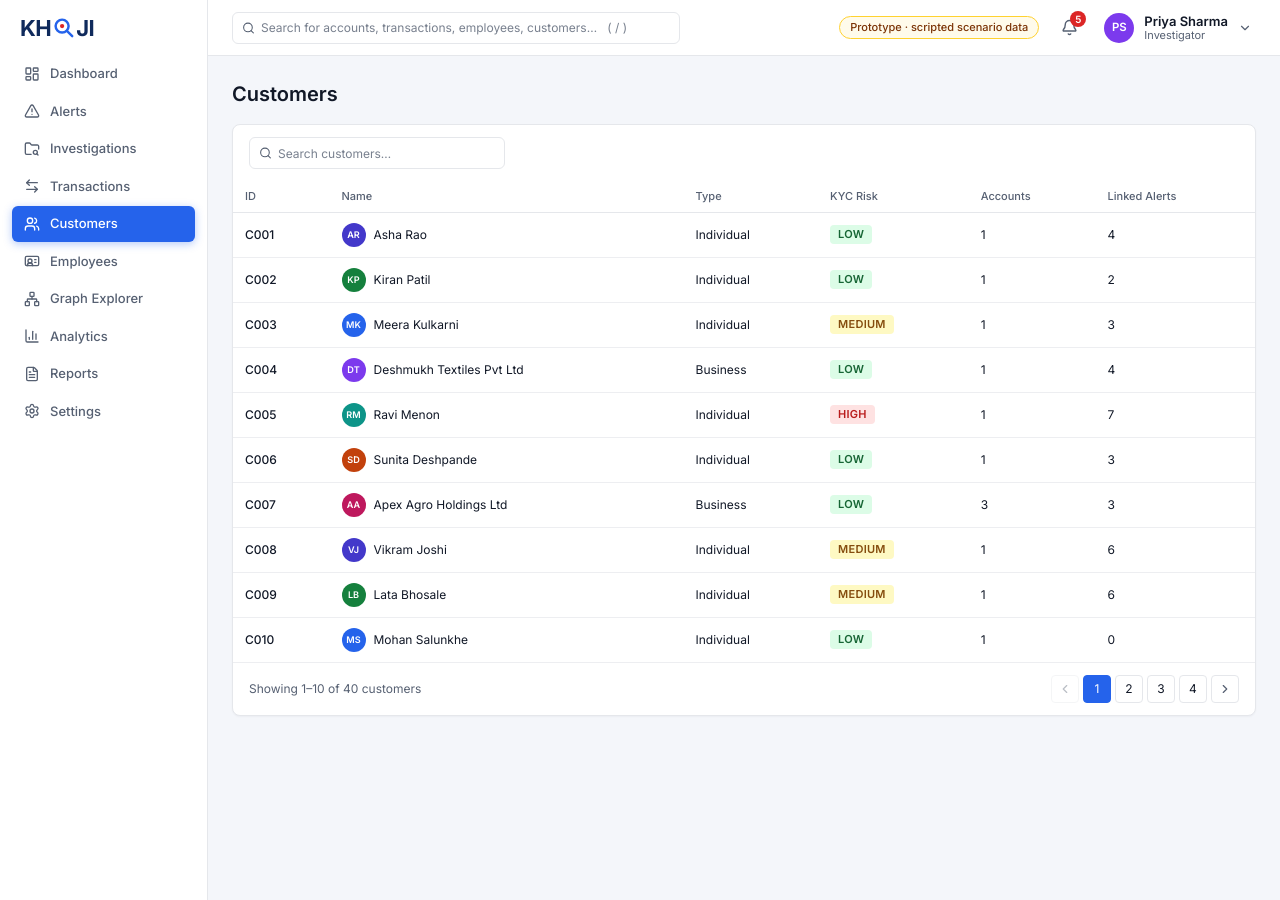
Test: Customers list › shows linked alert counts and searches by name
Type "Ravi" into the search field labelled "Search customers" at coordinates (377, 153), box [249,137,505,169]
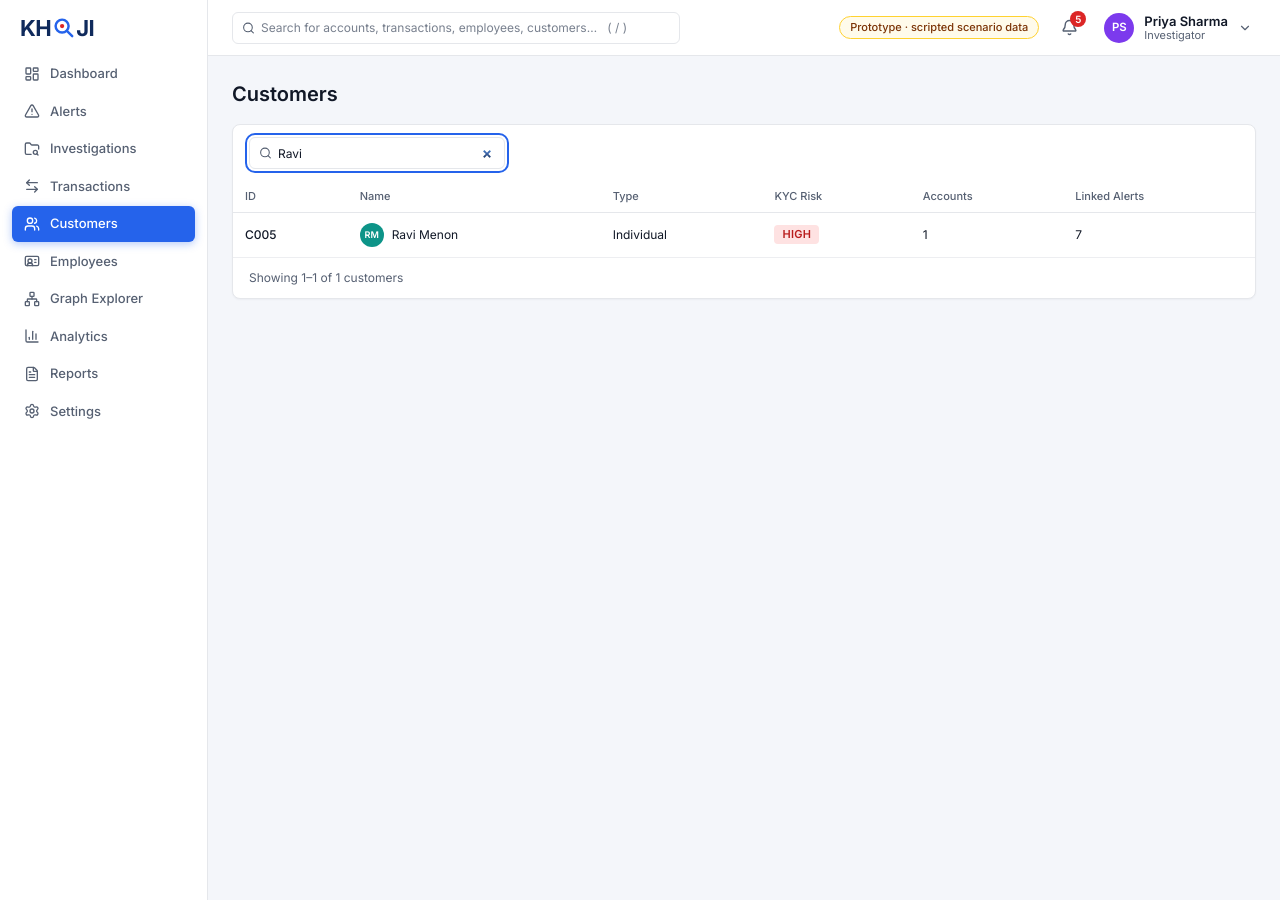
Expected: the text "Ravi Menon" is shown, [392,227,458,242]
Expected: the text with test id "cust-showing" shows "of 1 customers", [249,270,403,285]
